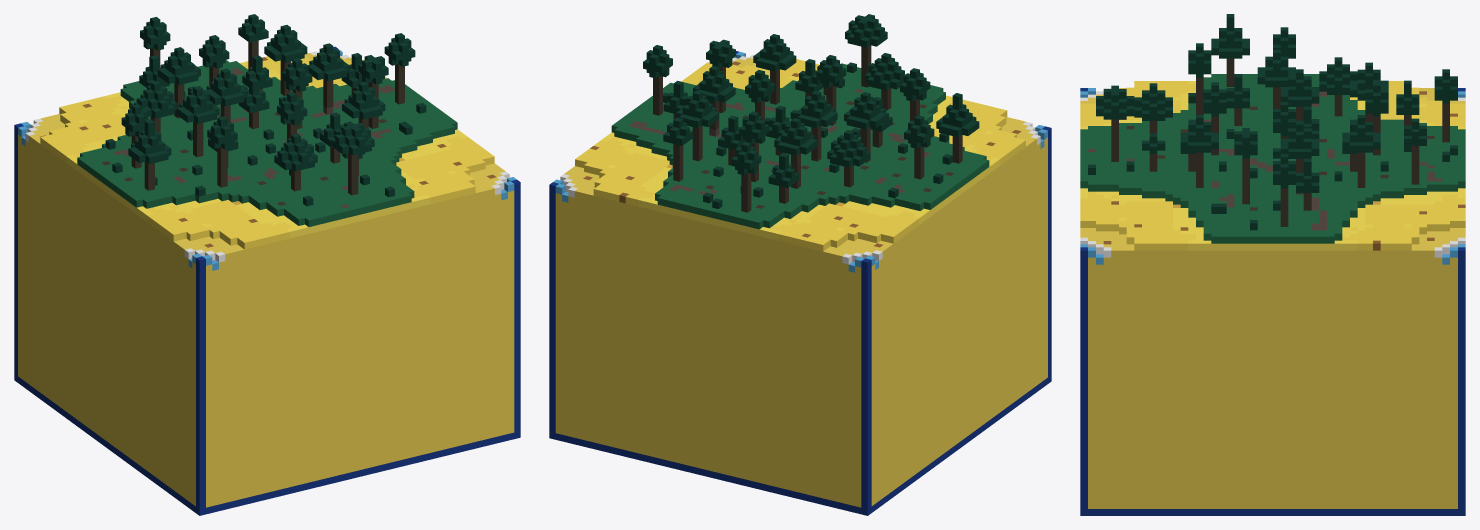
File: wall 12.obj
3 views of the same model, side by side, from view 1: azimuth 30°, elevation 25°; view 2: azimuth 150°, elevation 25°; view 3: azimuth 270°, elevation 25° (orthographic). The views are drawn at different scales.
Bounding box in the file's own units: 5 × 5 × 5.
Materials: 1 (1 with a texture image).
